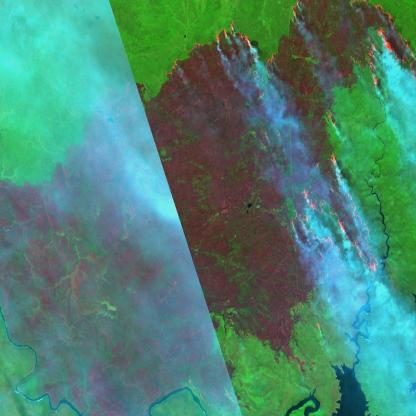fire: (280, 114, 389, 290), (259, 0, 416, 68), (159, 16, 254, 82)
